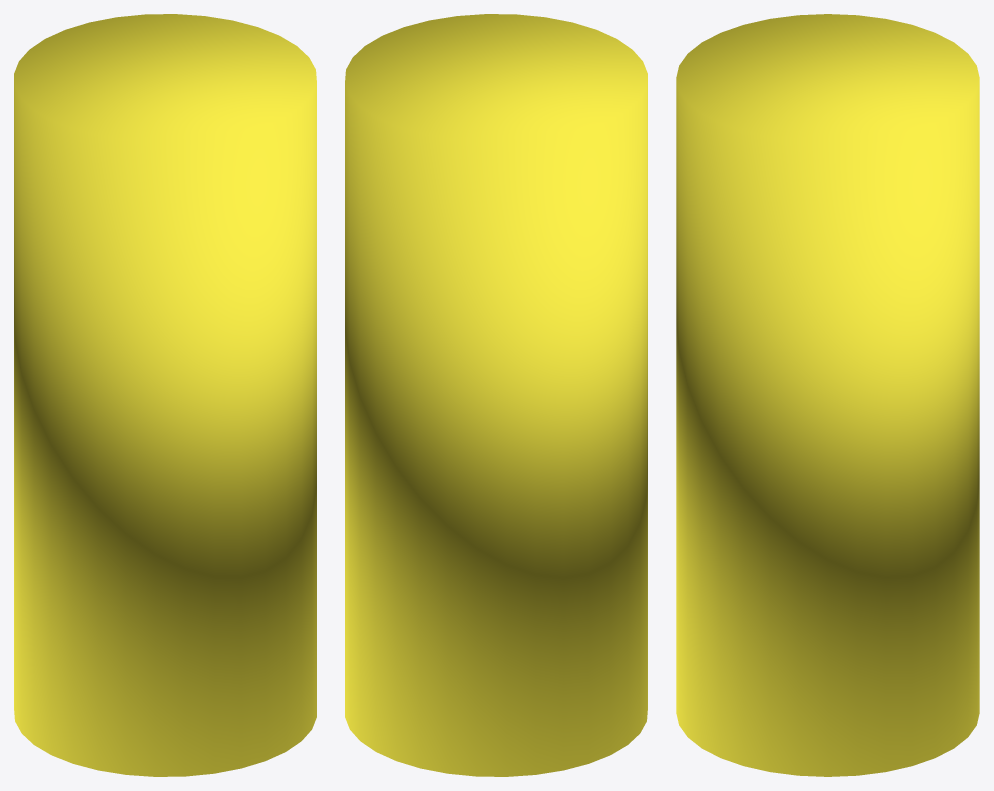
File: GT3_Suspension_Spring_RL.glb
3 views of the same model, side by side, from view 1: azimuth 30°, elevation 25°; view 2: azimuth 150°, elevation 25°; view 3: azimuth 270°, elevation 25° (orthographic).
Visible parts, largest first — view 1: GT3_Suspension_Spring_RL; view 2: GT3_Suspension_Spring_RL; view 3: GT3_Suspension_Spring_RL.
Part boxes in pixels (x1,y1,x2,y2): GT3_Suspension_Spring_RL: (14,14,316,776); GT3_Suspension_Spring_RL: (345,14,647,776); GT3_Suspension_Spring_RL: (676,14,979,776).
Size of the model in its own units: 0.104 by 0.24 by 0.104.
